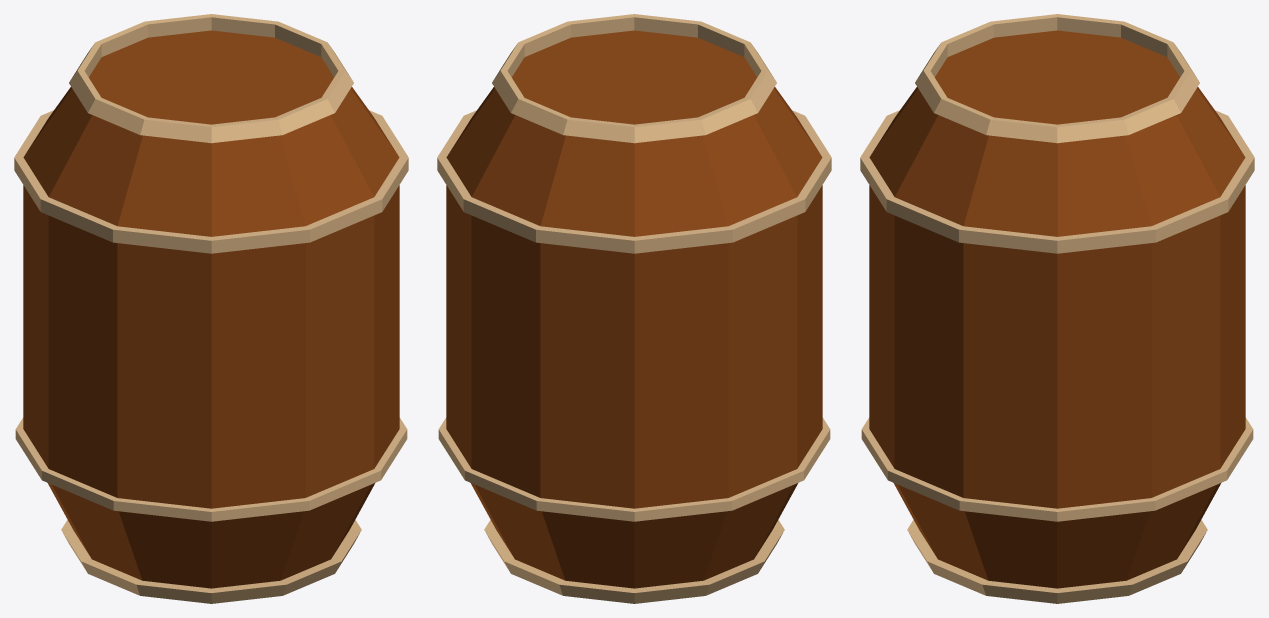
Rendered from WoodBarrel.fbx.
3 views of the same model, side by side, from view 1: azimuth 30°, elevation 25°; view 2: azimuth 150°, elevation 25°; view 3: azimuth 270°, elevation 25° (orthographic).
Visible parts, largest first — view 1: Cylinder; view 2: Cylinder; view 3: Cylinder.
Boxes of the visible parts, x1,y1,x2,y2 form: Cylinder: (14,14,408,603); Cylinder: (437,14,831,603); Cylinder: (860,14,1254,603).
Bounding box in the file's own units: 210 × 278 × 210.
